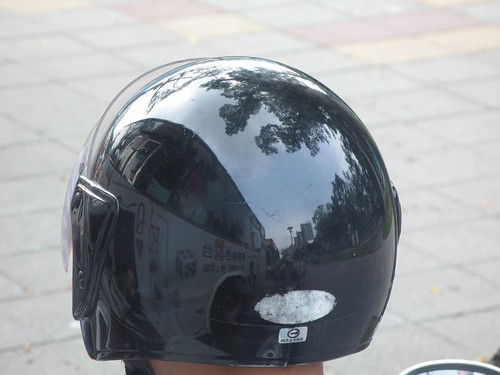helmet: (52, 43, 400, 361)
